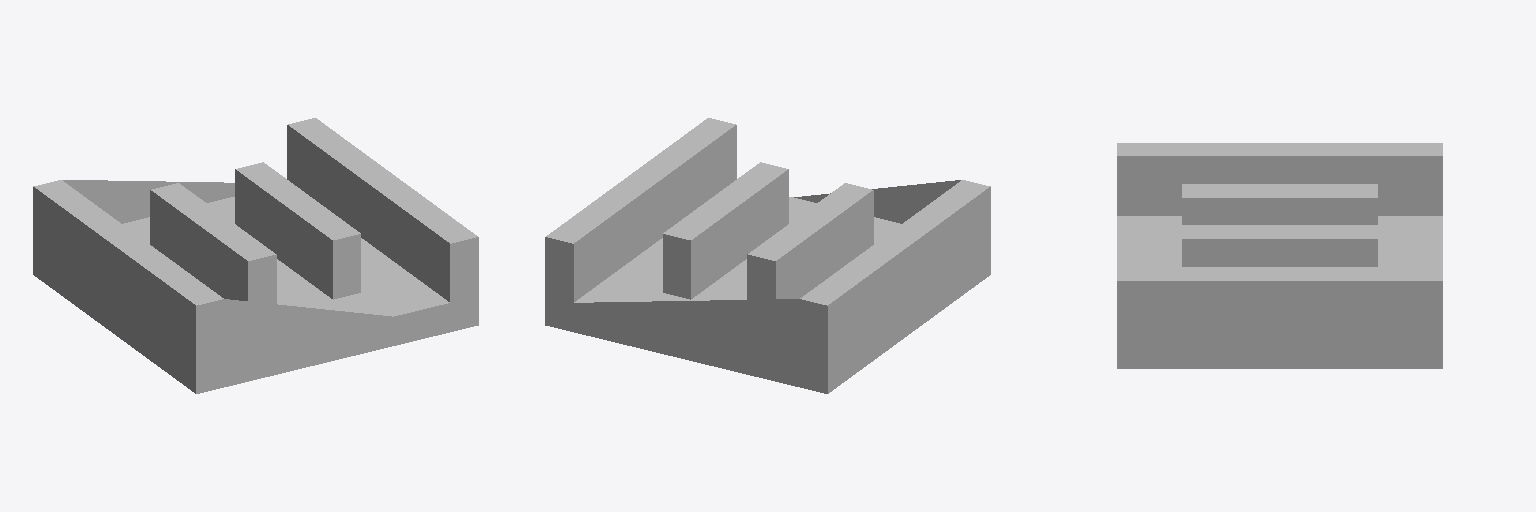
File: Straight2Pins.obj
3 views of the same model, side by side, from view 1: azimuth 30°, elevation 25°; view 2: azimuth 150°, elevation 25°; view 3: azimuth 270°, elevation 25° (orthographic).
Visible parts, largest first — view 1: Straight2Pins; view 2: Straight2Pins; view 3: Straight2Pins.
Boxes of the visible parts, x1=… form: Straight2Pins: x1=33, y1=118, x2=478, y2=393; Straight2Pins: x1=545, y1=118, x2=990, y2=393; Straight2Pins: x1=1117, y1=143, x2=1442, y2=368.
Bounding box in the file's own units: 2 × 0.6 × 2.